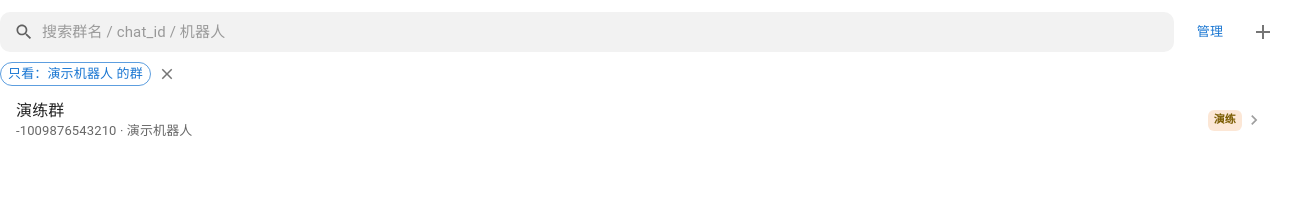
Scenario: ChatsPage › intent 带 bot 过滤：显示过滤条，可清除
Check: the text "只看：演示机器人 的群" is shown, box [1,64,150,84]
Check: the text "演练群" is shown, box [16,101,64,120]
Click the button named "清除筛选" at (167, 74), box [153,60,181,88]
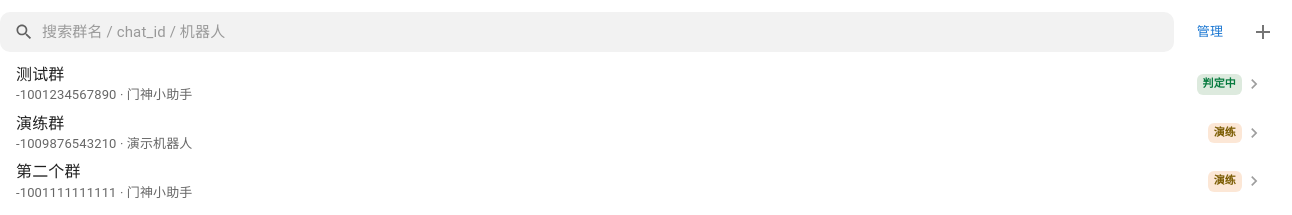
Check: the text "测试群" is shown, box [16,65,64,84]
Check: the text "只看：演示机器人 的群" is gone
